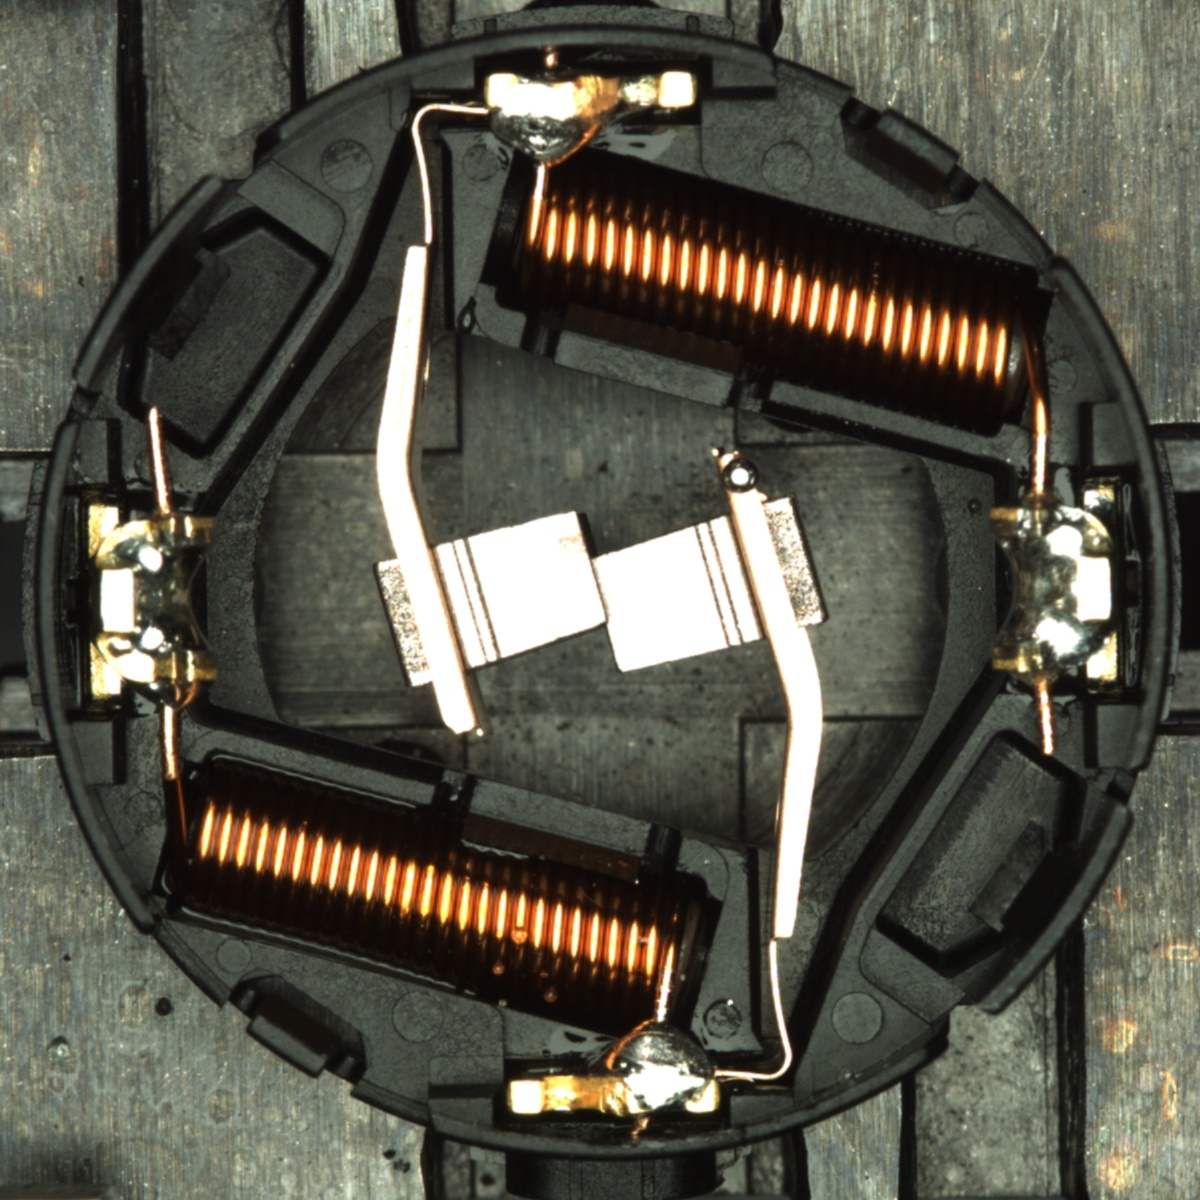1: (258, 55, 487, 279), (716, 953, 945, 1177)
2: (716, 55, 945, 279), (258, 953, 487, 1177)
3: (29, 279, 258, 503), (945, 729, 1175, 953)
4: (258, 279, 487, 503), (716, 729, 945, 953)
5: (487, 167, 716, 391), (487, 841, 716, 1065)
6: (716, 279, 945, 503), (258, 729, 487, 953)
7: (945, 279, 1175, 503), (29, 729, 258, 953)
chau_dien: (981, 485, 1123, 685), (81, 498, 221, 700)
hat_chi: (721, 457, 760, 495)
tay_choi: (484, 67, 700, 170), (505, 1018, 721, 1120)
thanh_de: (954, 786, 1140, 1032), (58, 162, 244, 405)
